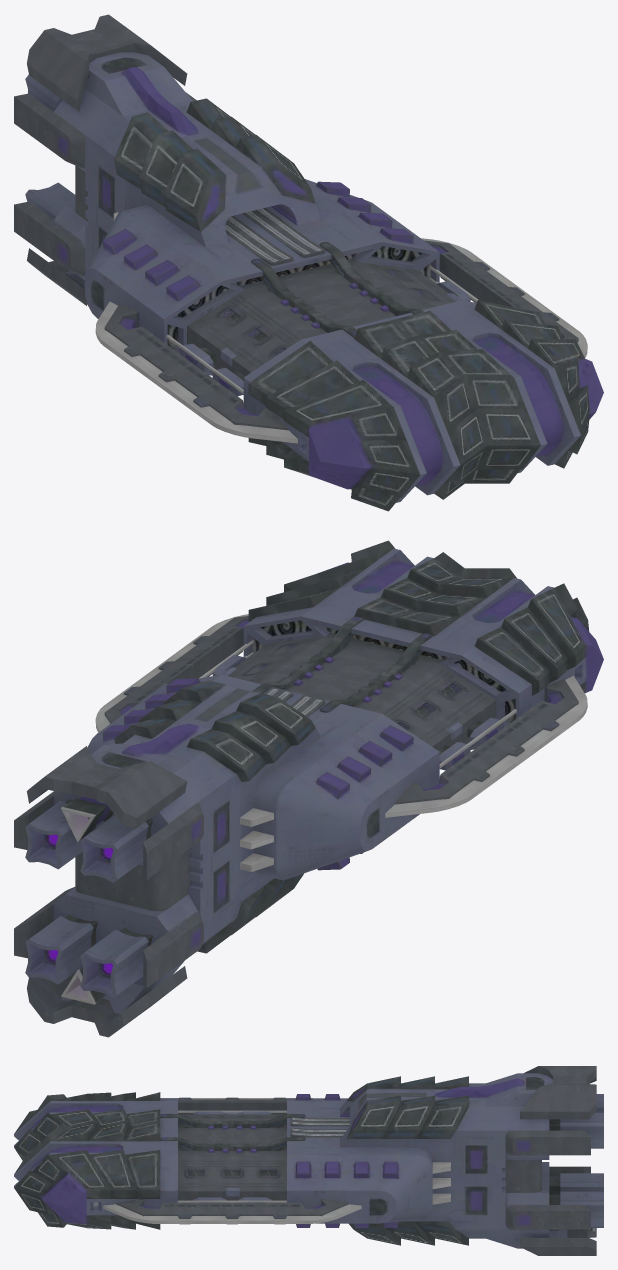
File: watson.gltf
3 renders of one model, top to bottom at view 1: azimuth 30°, elevation 25°; view 2: azimuth 150°, elevation 25°; view 3: azimuth 270°, elevation 25°, orthographic. The views are drawn at different scales.
Visible parts, largest first — view 1: Base; view 2: Base; view 3: Base.
Part boxes in pixels (left/top/right/bottom): Base: left=14, top=14, right=603, bottom=511; Base: left=14, top=540, right=603, bottom=1037; Base: left=14, top=1066, right=603, bottom=1255.
Bounding box in the file's own units: 8 × 5.1 × 16.2.
1 material, 1 textured.
